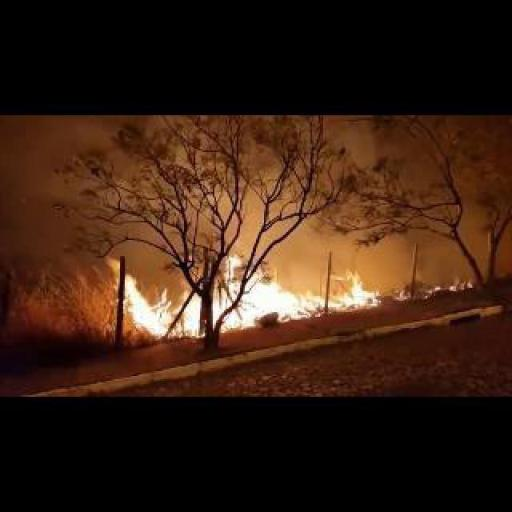smoke: (213, 251, 379, 331), (110, 258, 200, 336), (432, 280, 472, 291)
